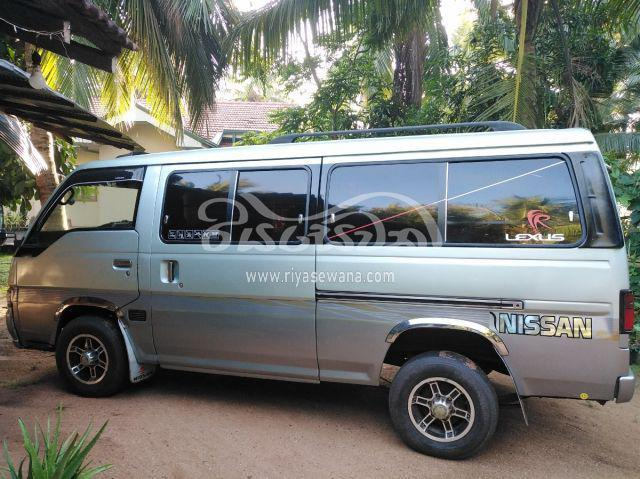Van: (7, 144, 639, 429)
